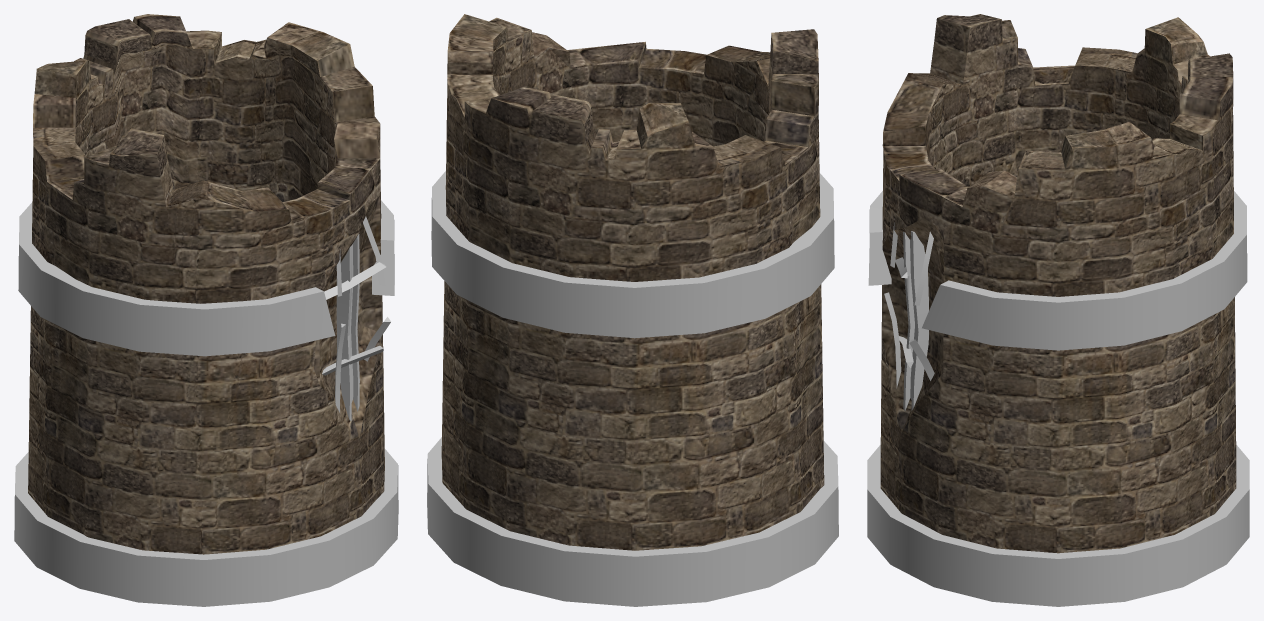
The model's file is SM_EN_2003_CastleTower_Ruin_01.FBX.
The picture shows the model from 3 angles, left to right: view 1: azimuth 30°, elevation 25°; view 2: azimuth 150°, elevation 25°; view 3: azimuth 270°, elevation 25°; orthographic projection. The views are drawn at different scales.
Visible parts, largest first — view 1: SM_EN_2003_CastleTower_Ruin_01a, SM_EN_2003_CastleTower_Ruin_01b; view 2: SM_EN_2003_CastleTower_Ruin_01a, SM_EN_2003_CastleTower_Ruin_01b; view 3: SM_EN_2003_CastleTower_Ruin_01a, SM_EN_2003_CastleTower_Ruin_01b.
Boxes of the visible parts, box(x1,y1,x2,y2) form: SM_EN_2003_CastleTower_Ruin_01a: box(28, 14, 384, 554); SM_EN_2003_CastleTower_Ruin_01b: box(14, 200, 398, 606); SM_EN_2003_CastleTower_Ruin_01a: box(441, 14, 824, 550); SM_EN_2003_CastleTower_Ruin_01b: box(427, 171, 838, 606); SM_EN_2003_CastleTower_Ruin_01a: box(880, 14, 1236, 553); SM_EN_2003_CastleTower_Ruin_01b: box(867, 191, 1249, 606).
Bounding box in the file's own units: 143 × 178 × 137.
